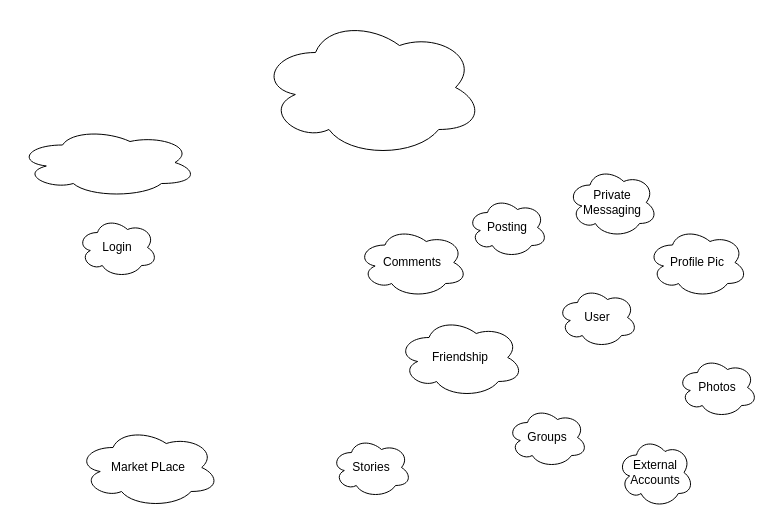
Image size: 775x525. Some labels were removed from this diagram. Here are the shapes that lost their labels. From the top down, the box of each, then its label:
(258, 16, 484, 158): Social Network
(16, 126, 198, 198): Name/NickName
